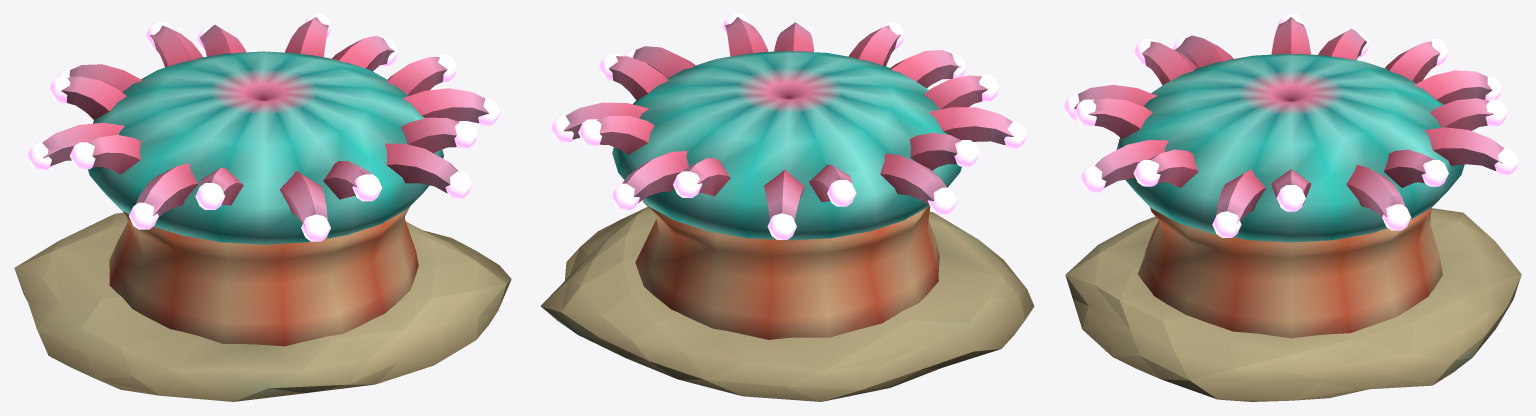
Rendered from bounce_underwater.glb.
3 renders of one model, left to right at view 1: azimuth 30°, elevation 25°; view 2: azimuth 150°, elevation 25°; view 3: azimuth 270°, elevation 25°, orthographic. The views are drawn at different scales.
Visible parts, largest first — view 1: top, bounce_underwater; view 2: top, bounce_underwater; view 3: top, bounce_underwater.
Boxes of the visible parts, x1,y1,x2,y2 form: top: [27, 14, 500, 244]; bounce_underwater: [14, 206, 511, 401]; top: [551, 14, 1027, 240]; bounce_underwater: [540, 201, 1034, 401]; top: [1063, 14, 1519, 242]; bounce_underwater: [1065, 207, 1521, 401].
Bounding box in the file's own units: 1.66 × 0.775 × 1.56.
